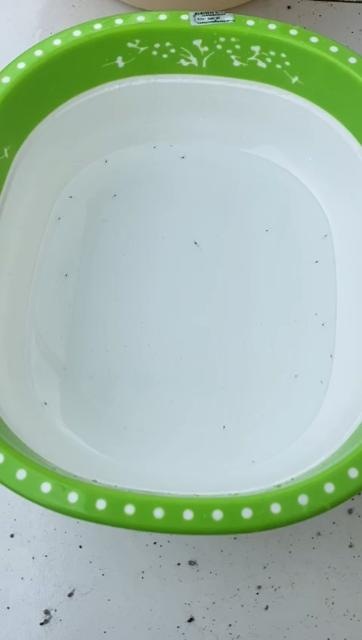benur: (62, 270, 72, 283), (65, 193, 77, 202), (55, 215, 64, 226), (39, 399, 50, 407), (102, 157, 110, 166), (112, 190, 119, 200), (192, 239, 200, 247), (250, 458, 258, 466), (167, 143, 177, 149), (181, 153, 188, 161), (320, 321, 327, 329), (293, 372, 300, 380), (152, 144, 158, 153), (264, 228, 271, 235), (323, 233, 330, 240), (320, 378, 326, 386), (314, 260, 321, 266), (312, 311, 319, 317), (329, 354, 335, 361), (222, 424, 227, 431)
